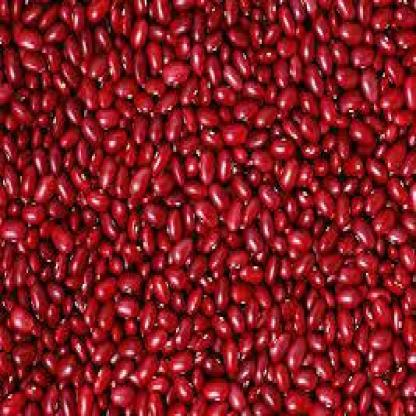other: (1, 6, 412, 409)
